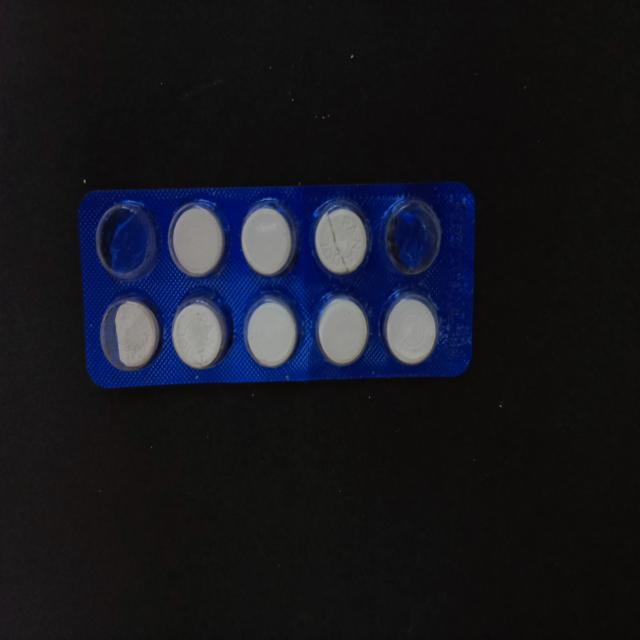defect: (94, 200, 161, 284), (97, 293, 164, 376), (380, 196, 445, 280), (310, 198, 373, 280)
